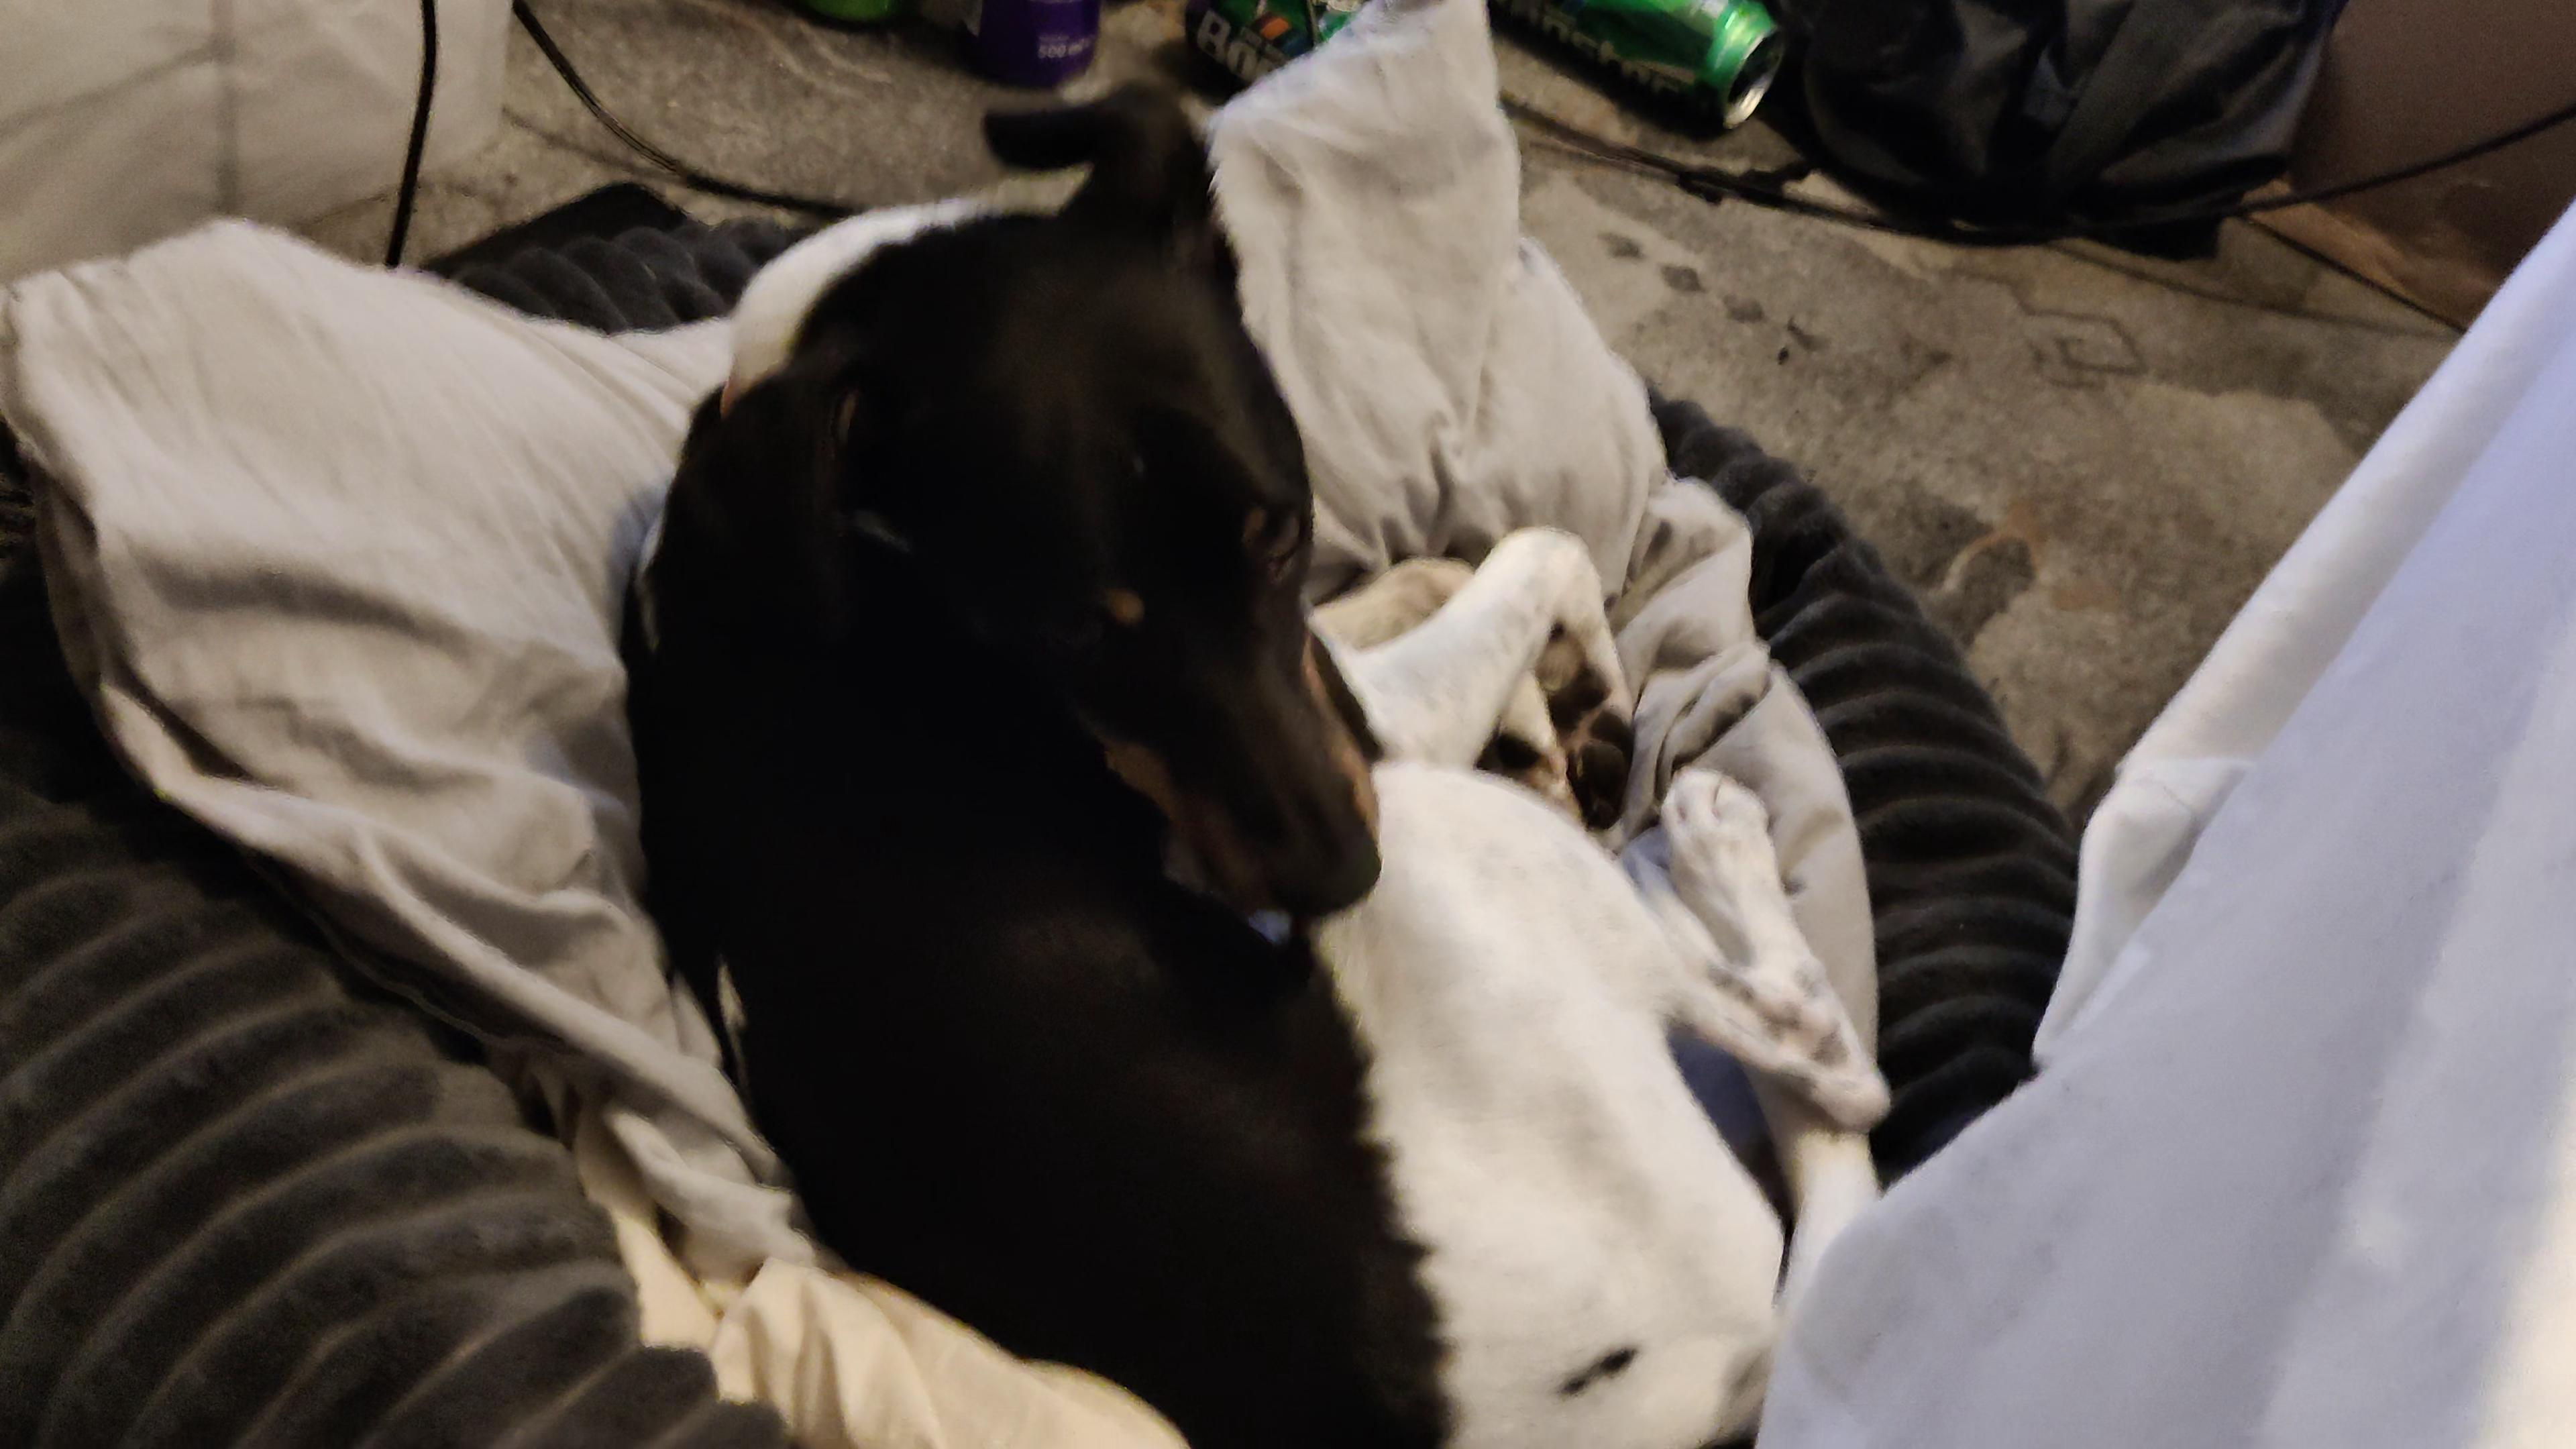Dog: (579, 65, 1916, 1449)
